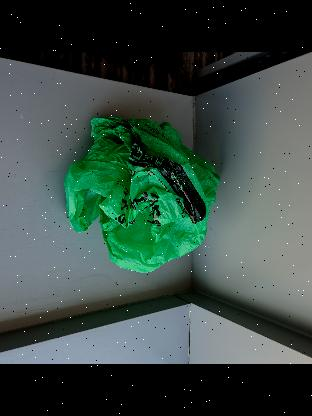Others: (60, 105, 230, 279)
